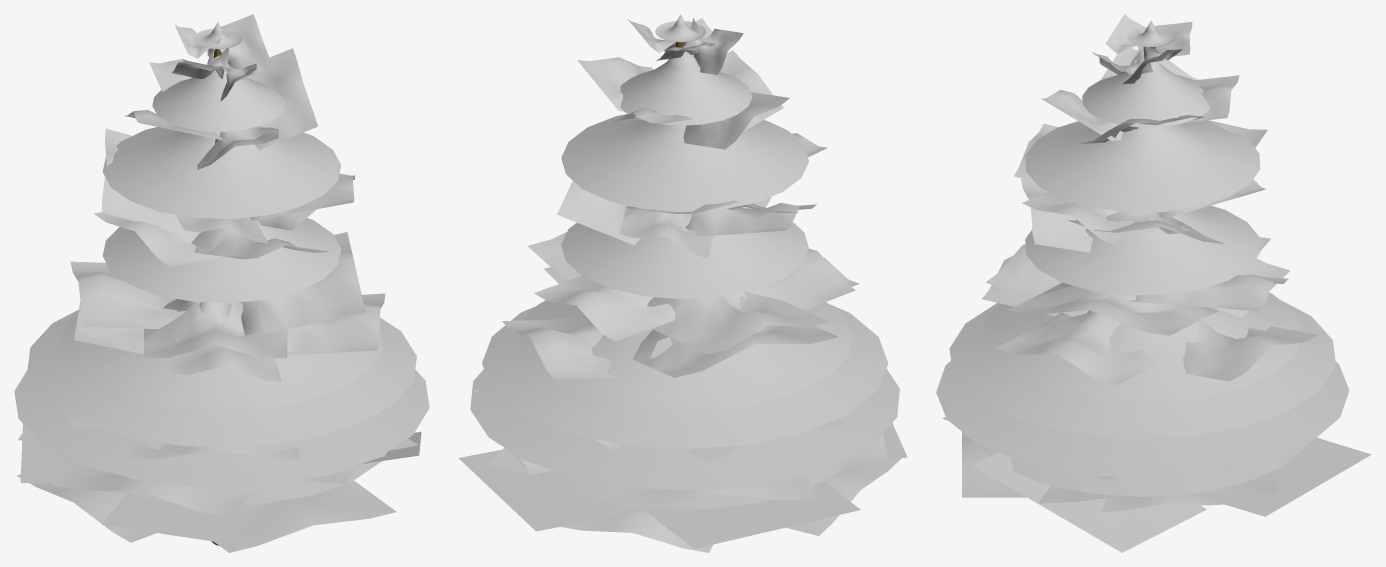
File: Pine_Tree_Luc.fbx
3 renders of one model, left to right at view 1: azimuth 30°, elevation 25°; view 2: azimuth 150°, elevation 25°; view 3: azimuth 270°, elevation 25°, orthographic. The views are drawn at different scales.
Visible parts, largest first — view 1: Dennenboom; view 2: Dennenboom; view 3: Dennenboom.
Part boxes in pixels (box(x1,y1,x2,y2)): Dennenboom: box(14, 14, 429, 552); Dennenboom: box(458, 14, 907, 552); Dennenboom: box(936, 14, 1371, 552).
Bounding box in the file's own units: 22.32 × 29.29 × 22.68.
